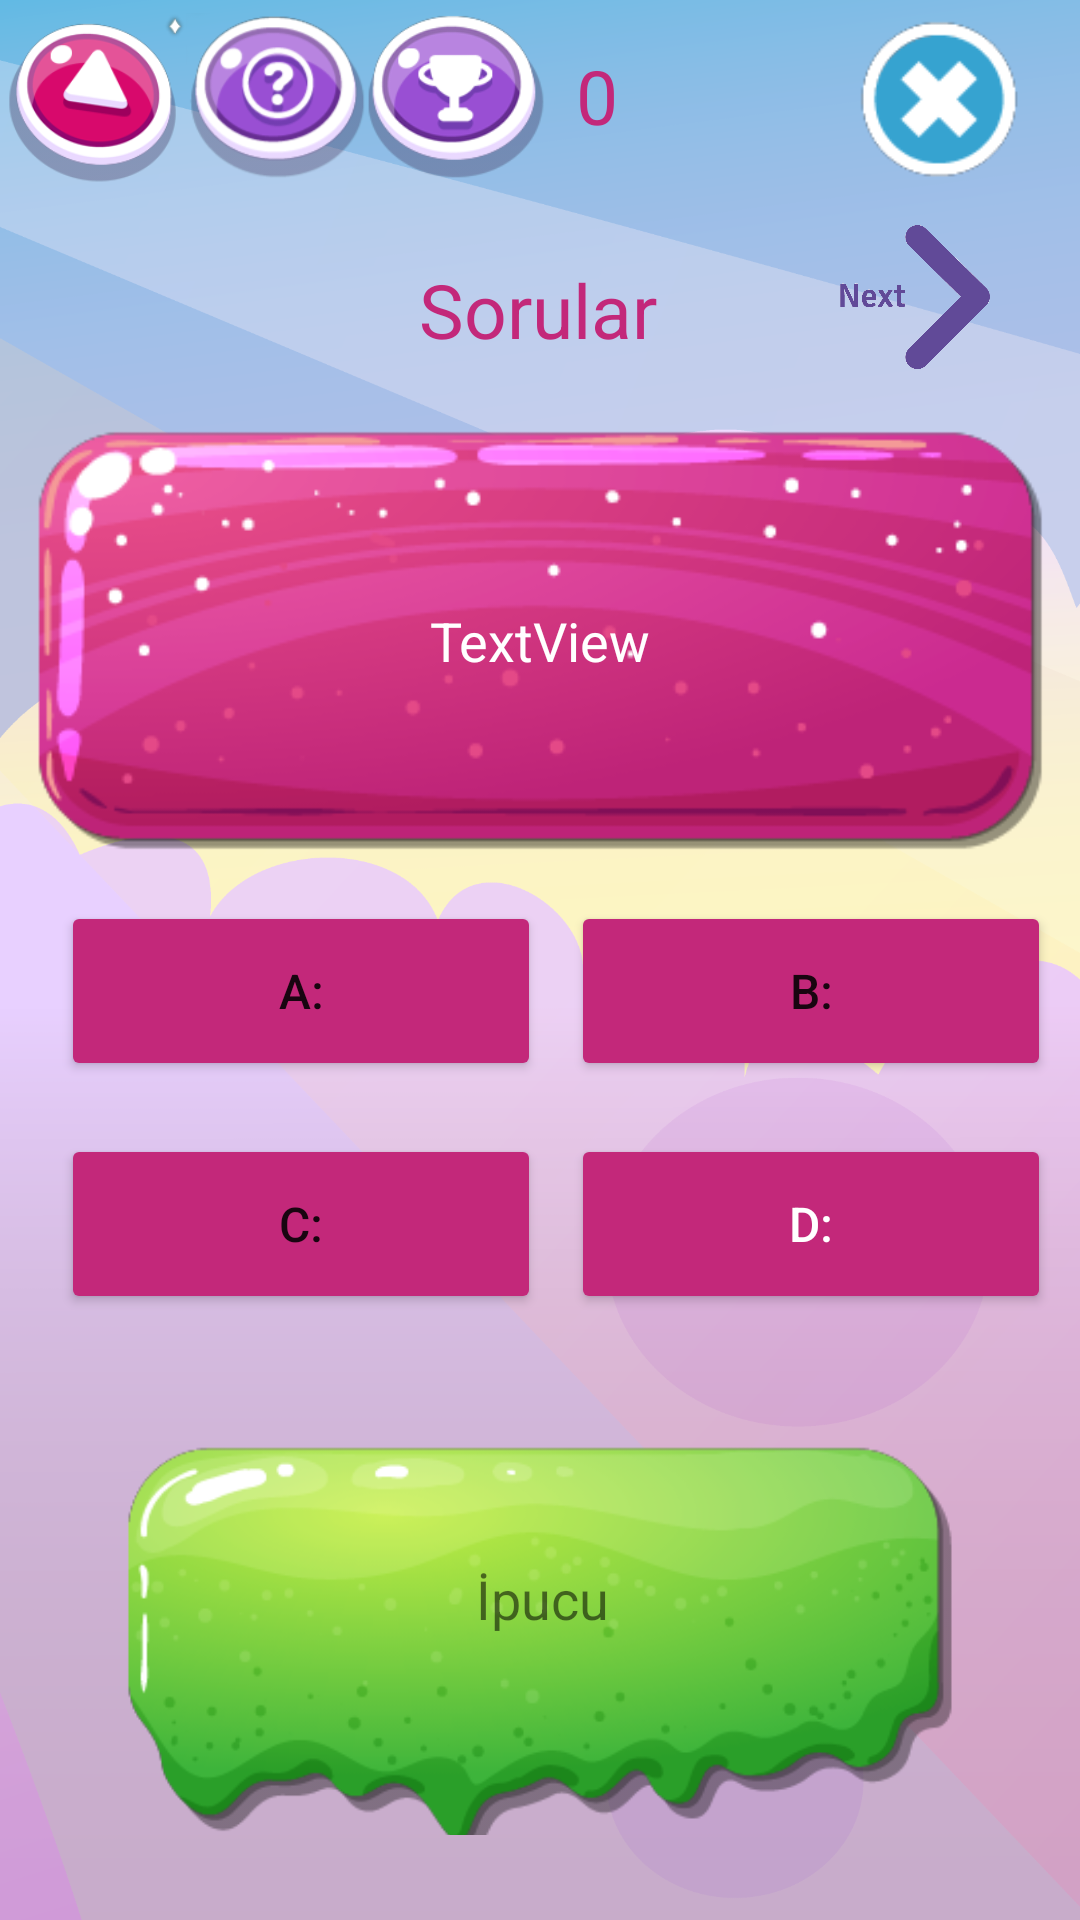

Point at icon controls on the screen. Image size 1080px x 1920px, points as [x,y].
Exit Button: [936,104]
Hint Button: [276,96]
scoreGame Button: [456,96]
startGame Button: [96,96]
